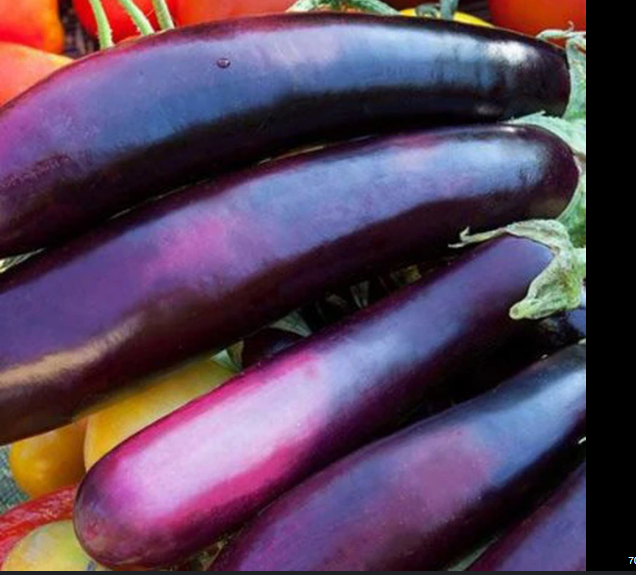catim: (3, 10, 584, 266), (73, 120, 565, 333), (216, 333, 586, 567)
